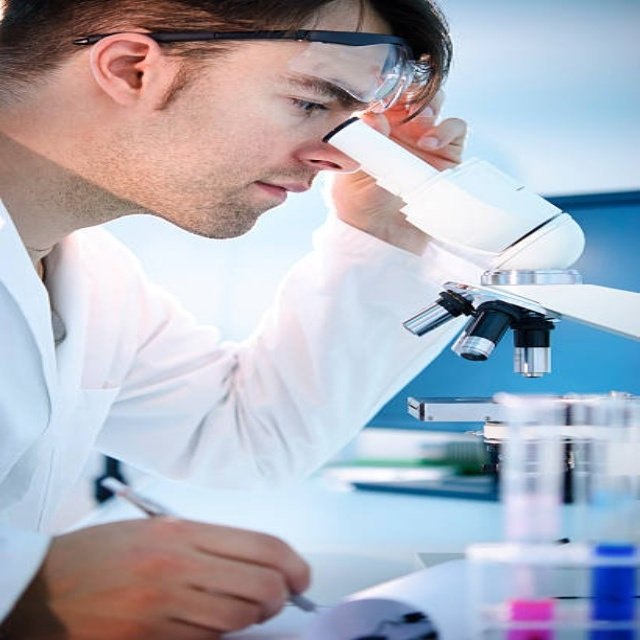Gafas: (70, 29, 427, 113)
Sin_guantes: (25, 513, 317, 640), (314, 94, 477, 250)
Sin_mascara: (184, 166, 325, 236)
